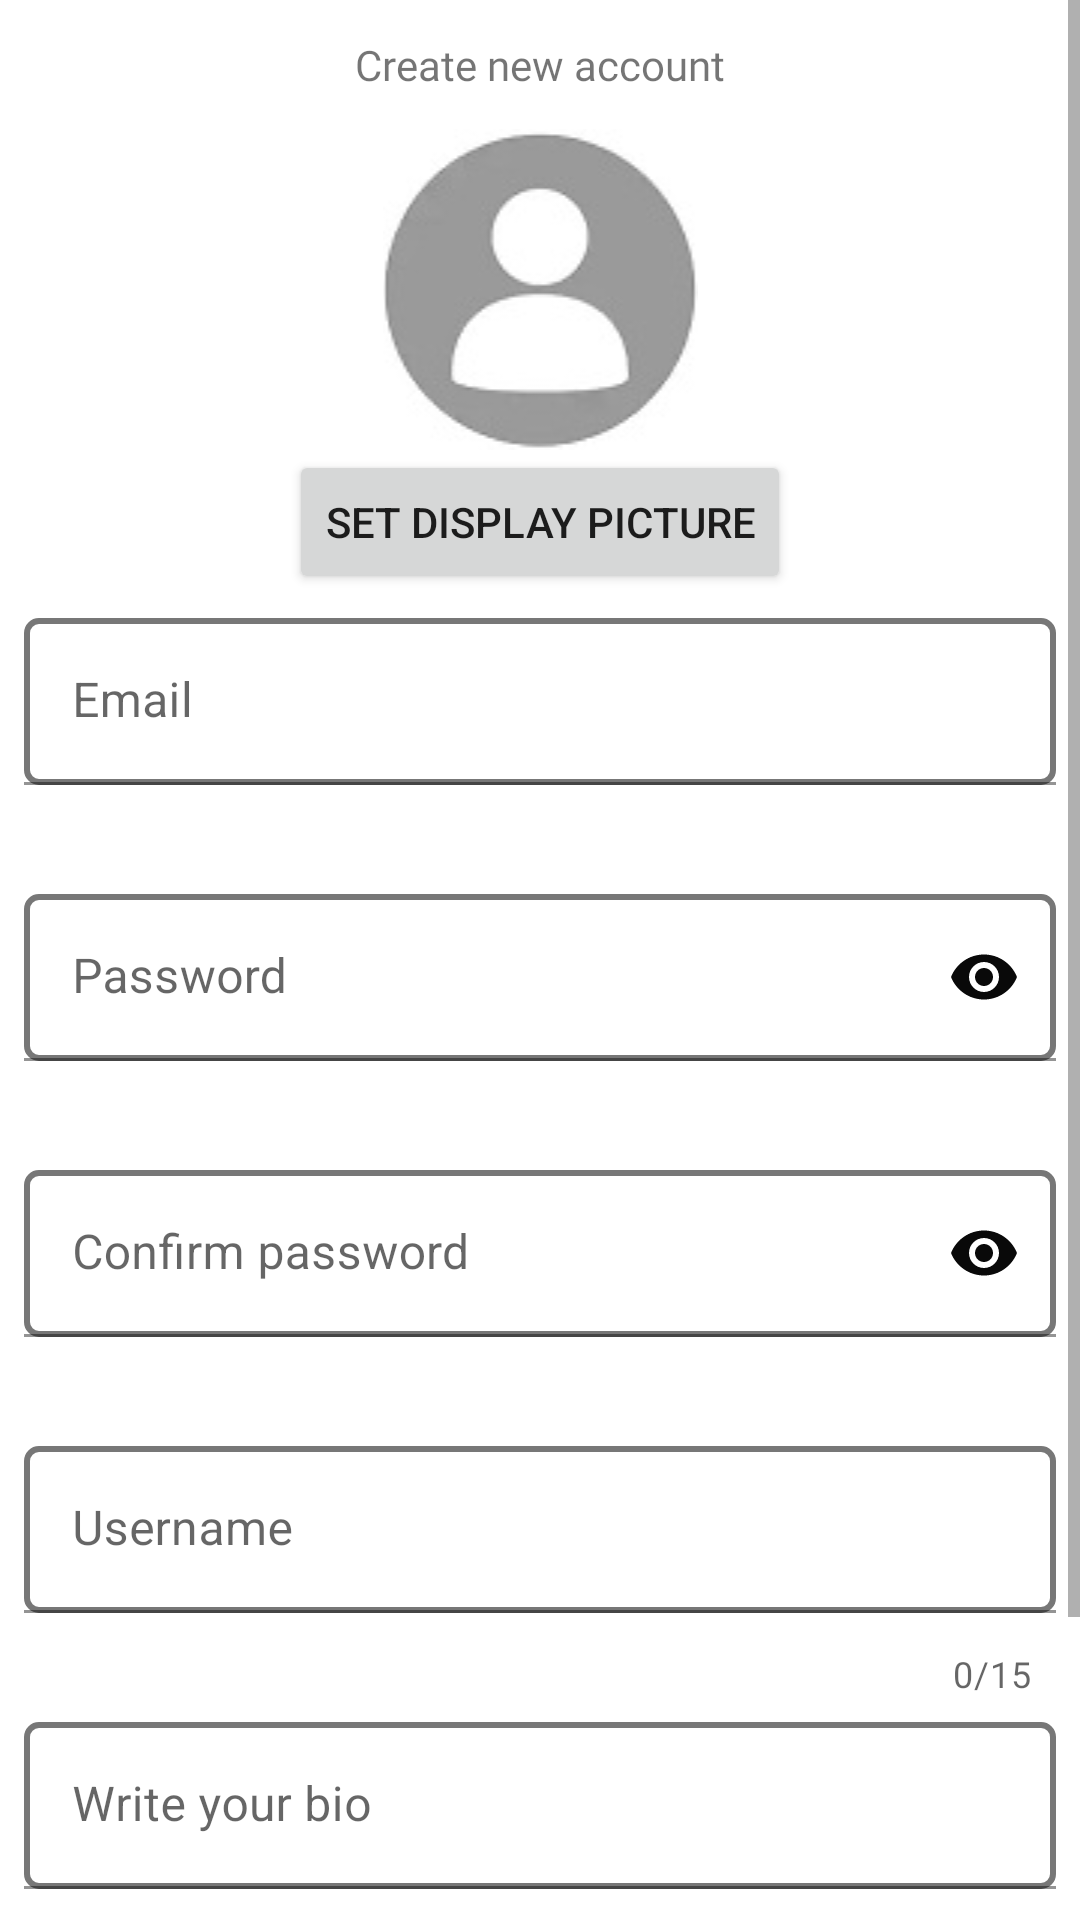

Locate icon controls on the screen. Image size 1080w x 1920h, boxes as detection(x1, y1, x2, y2).
profilepicture: detection(384, 134, 696, 448)
